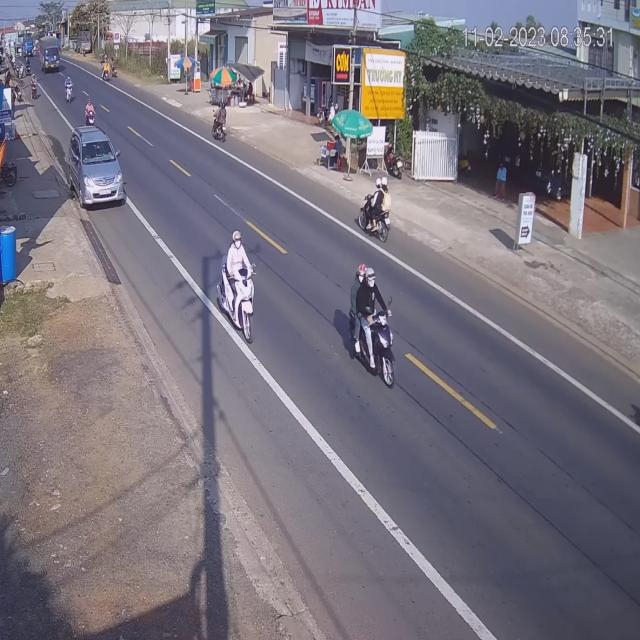car: (70, 129, 124, 211)
motorbike: (348, 267, 394, 390), (219, 231, 257, 347), (356, 179, 388, 242), (212, 106, 226, 144), (87, 96, 97, 127), (66, 74, 75, 104), (102, 59, 110, 83)
truck: (40, 39, 59, 74)
